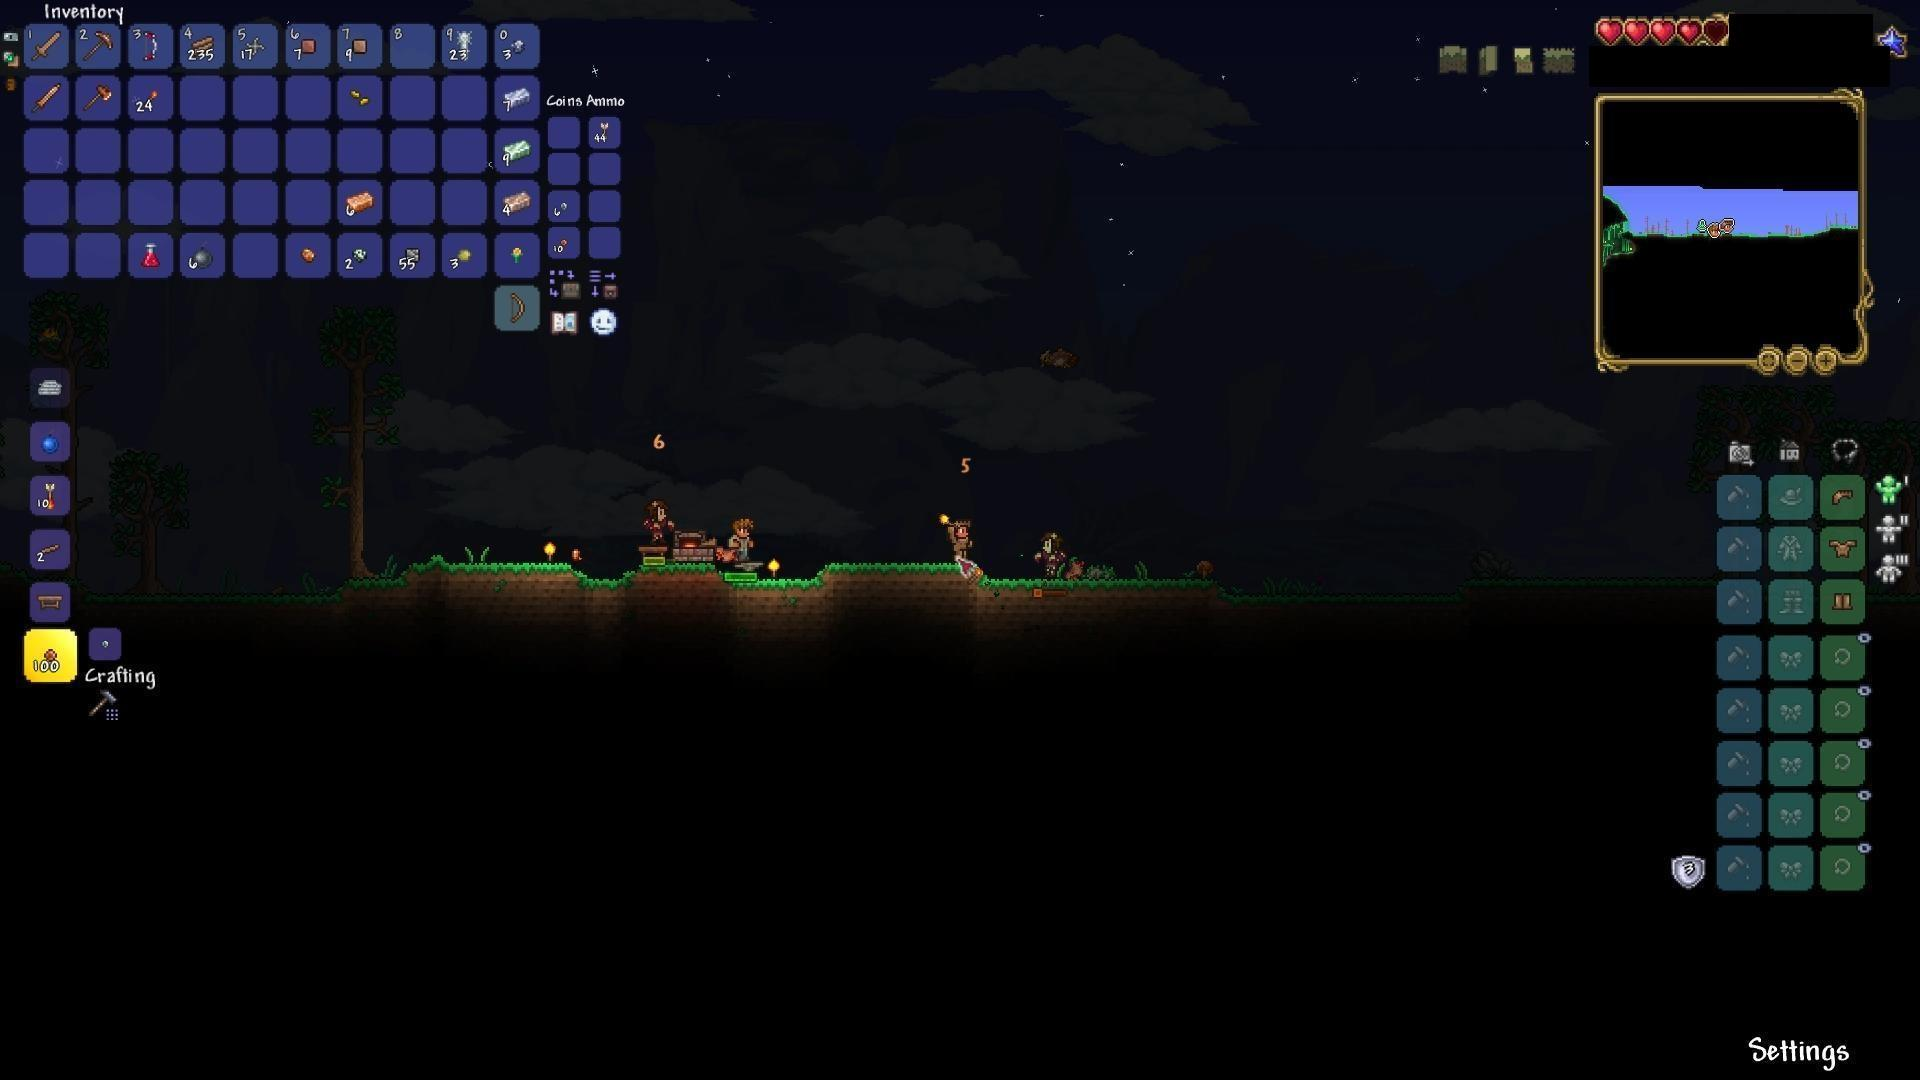dirt: (810, 545, 1226, 622), (331, 550, 637, 625), (617, 556, 823, 608)
heart: (1593, 16, 1626, 46), (1676, 15, 1704, 50), (1650, 16, 1676, 49), (1625, 15, 1651, 44)
